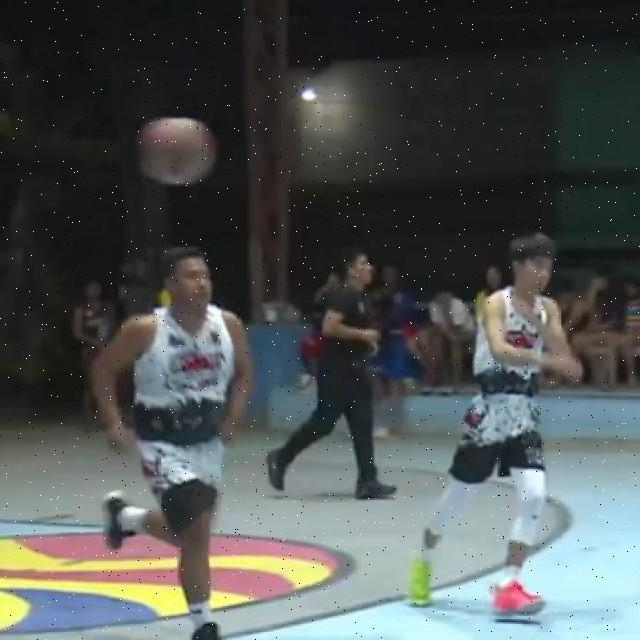ball: (128, 106, 224, 190)
